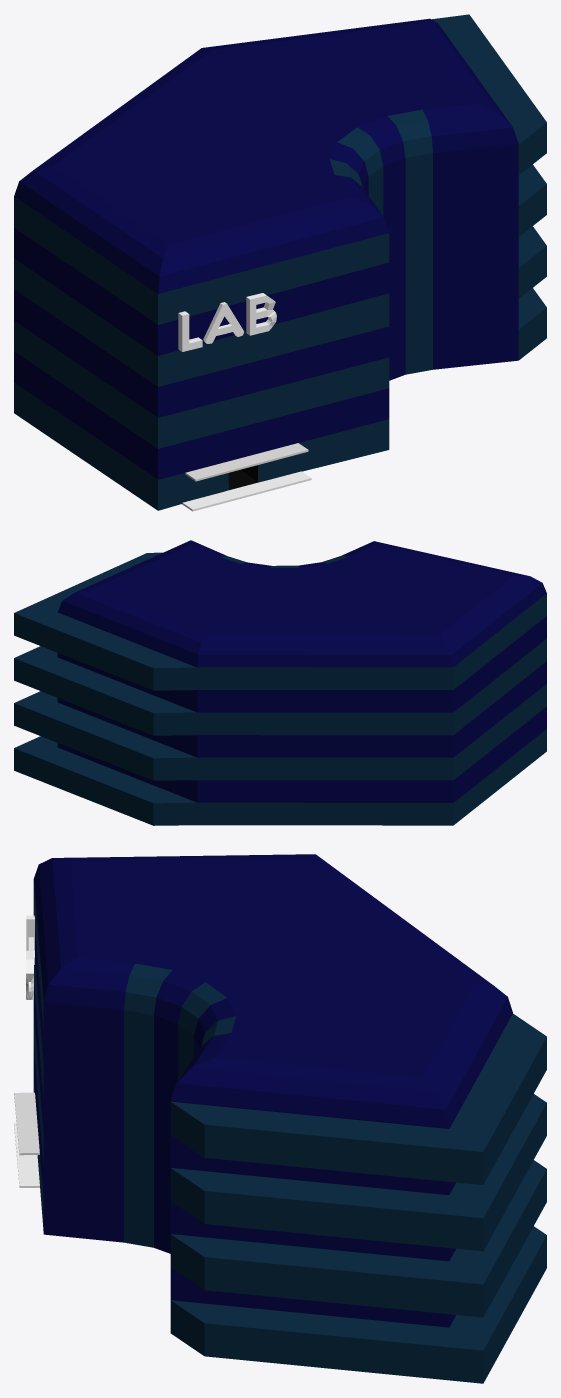
The model's file is LAb.fbx.
3 renders of one model, top to bottom at view 1: azimuth 30°, elevation 25°; view 2: azimuth 150°, elevation 25°; view 3: azimuth 270°, elevation 25°, orthographic. The views are drawn at different scales.
Visible parts, largest first — view 1: Cube, Cube.001, Cube.002, Cube.005, Cube.004, Cube.003; view 2: Cube; view 3: Cube, Cube.002, Cube.001.
Boxes of the visible parts, bbox=[...] form: Cube: bbox=[14, 14, 546, 510]; Cube.001: bbox=[182, 471, 311, 511]; Cube.002: bbox=[185, 443, 308, 481]; Cube.005: bbox=[246, 293, 276, 335]; Cube.004: bbox=[203, 302, 244, 343]; Cube.003: bbox=[178, 311, 202, 351]; Cube: bbox=[14, 540, 546, 825]; Cube: bbox=[33, 854, 546, 1383]; Cube.002: bbox=[14, 1092, 39, 1155]; Cube.001: bbox=[14, 1122, 39, 1187].
Size of the model in its own units: 1593 by 711 by 1297.
